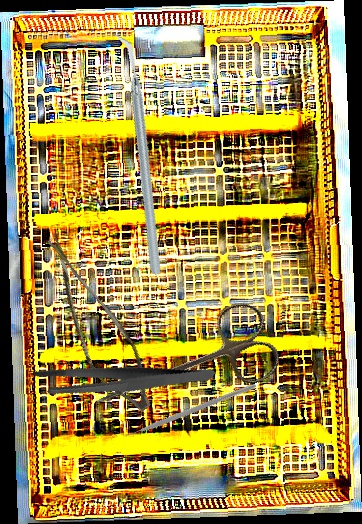Chopper: (52, 31, 225, 277), (113, 333, 257, 484)
Dressing Forceps: (29, 329, 217, 430)
Iris Scissors: (81, 295, 286, 444)
Micro Scissor: (8, 232, 180, 420)
